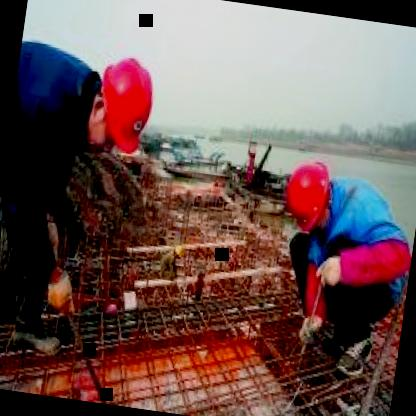helmet: (81, 48, 161, 160), (276, 148, 338, 236)
